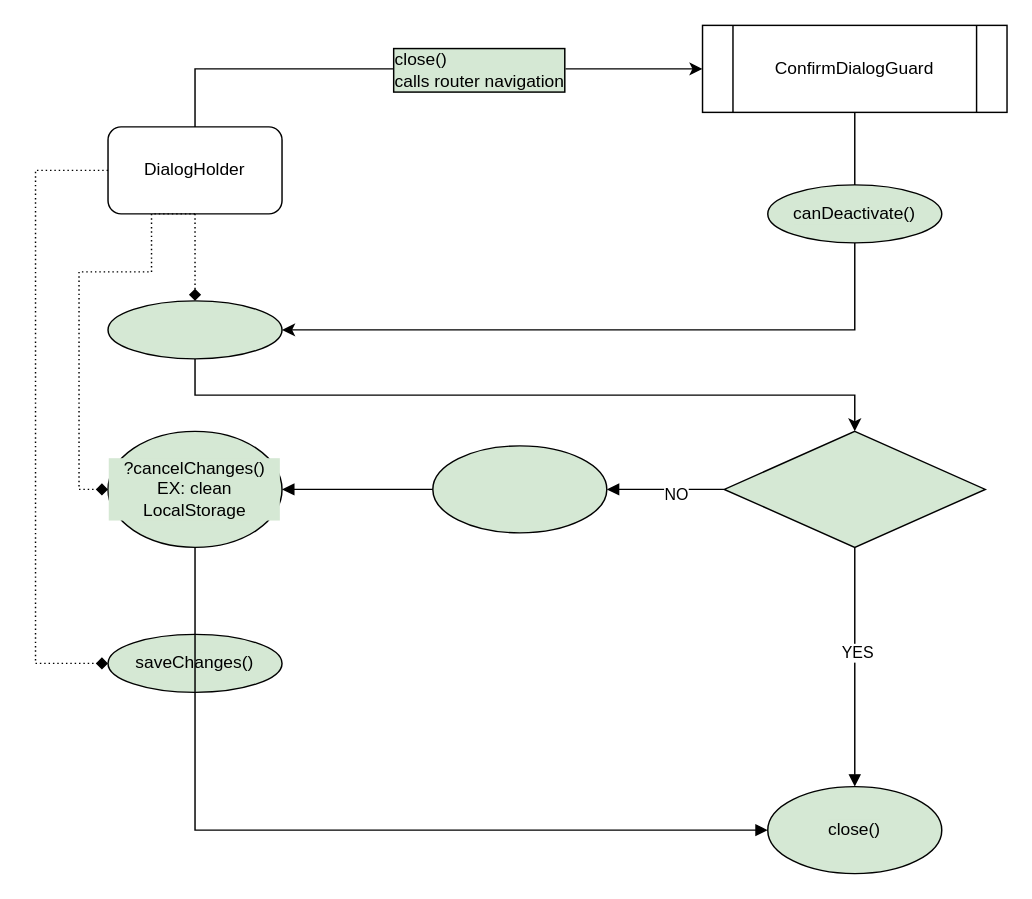
Some shapes in this 1032 by 899 pixel diagram are drawn without their labels. The box of each missing label's shape, as (x1, y1, x2, y2) in pixels:
checkChanges(): (107, 299, 282, 359)
confirm(): (431, 444, 607, 533)
needConfirmation: (723, 430, 985, 547)
